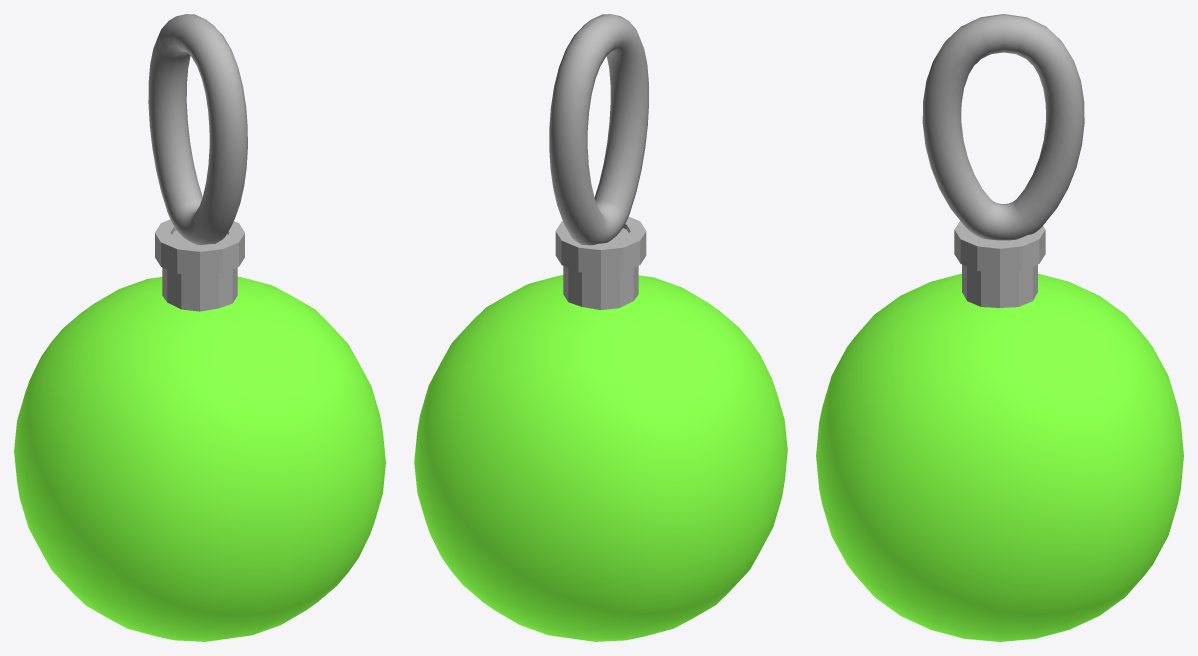
File: green_christmas_ball copy.glb
3 renders of one model, left to right at view 1: azimuth 30°, elevation 25°; view 2: azimuth 150°, elevation 25°; view 3: azimuth 270°, elevation 25°, orthographic.
Parts seen in each view (by area): view 1: Cube, BézierCircle, Cylinder; view 2: Cube, BézierCircle, Cylinder; view 3: Cube, BézierCircle, Cylinder.
Part boxes in pixels (left/top/right/bottom): Cube: left=14, top=276, right=385, bottom=641; BézierCircle: left=148, top=14, right=247, bottom=245; Cylinder: left=155, top=219, right=244, bottom=311; Cube: left=414, top=275, right=787, bottom=641; BézierCircle: left=549, top=14, right=648, bottom=245; Cylinder: left=555, top=217, right=646, bottom=309; Cube: left=816, top=273, right=1183, bottom=641; BézierCircle: left=922, top=14, right=1084, bottom=240; Cylinder: left=954, top=221, right=1045, bottom=307.
Bounding box in the file's own units: 1.68 × 3.06 × 1.68.
